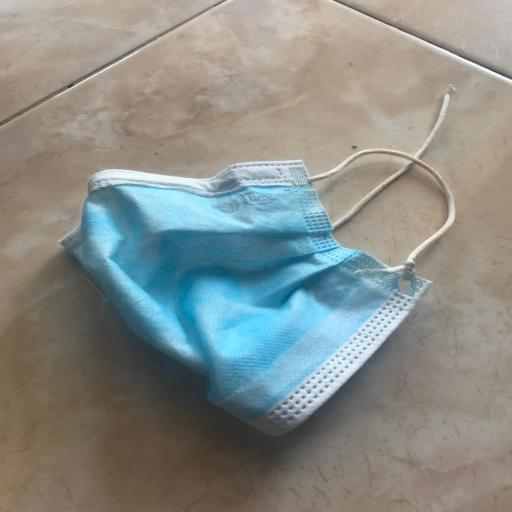waste: (54, 84, 470, 438)
